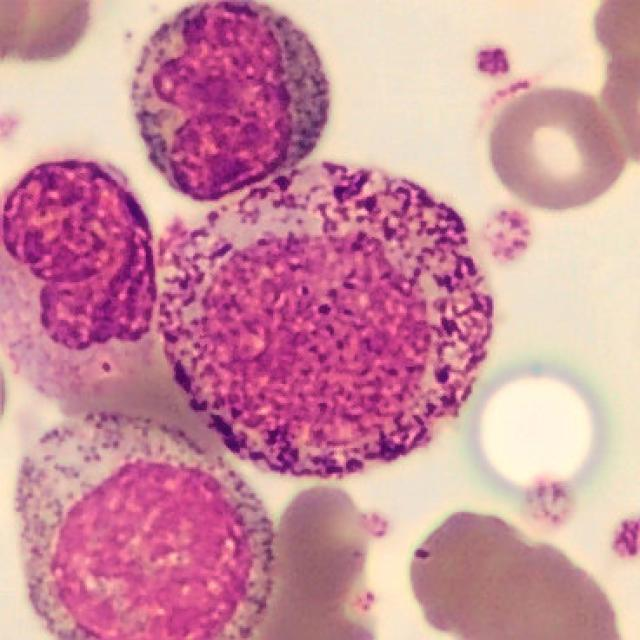Promielocito: (158, 161, 494, 479)
